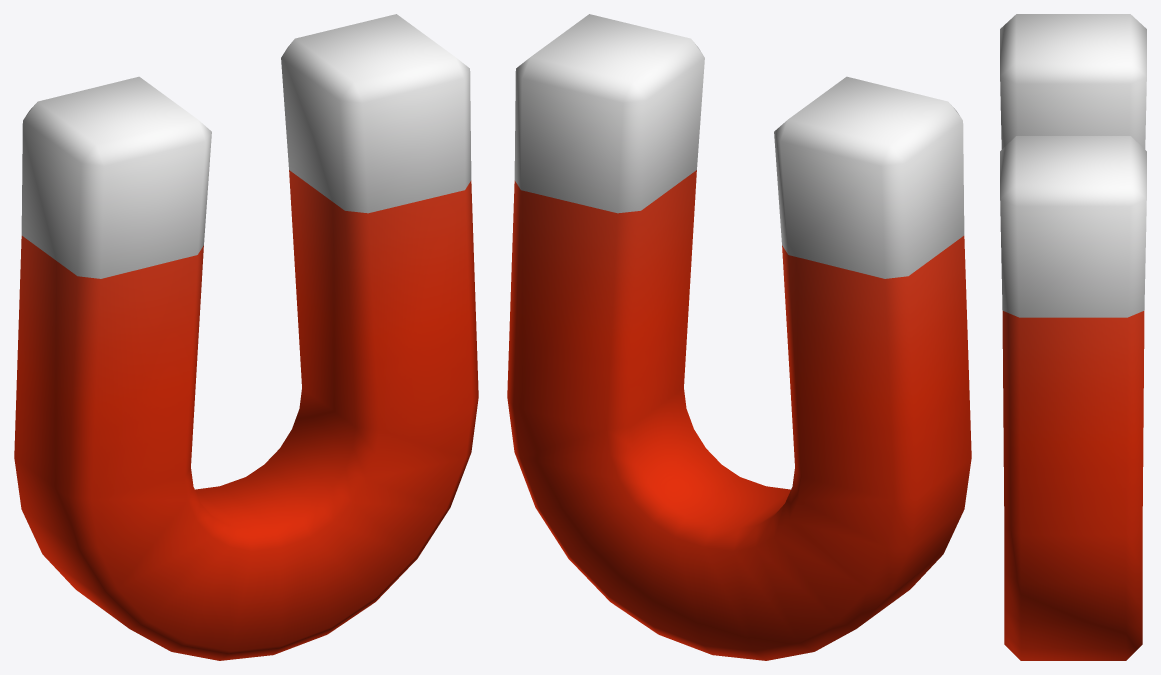
Rendered from Collectible_Magnet_01.glb.
The picture shows the model from 3 angles, left to right: view 1: azimuth 30°, elevation 25°; view 2: azimuth 150°, elevation 25°; view 3: azimuth 270°, elevation 25°; orthographic projection. The views are drawn at different scales.
Visible parts, largest first — view 1: Collectible_Magnet_01; view 2: Collectible_Magnet_01; view 3: Collectible_Magnet_01.
Part boxes in pixels (x1,y1,x2,y2): Collectible_Magnet_01: [14, 14, 478, 660]; Collectible_Magnet_01: [507, 14, 971, 660]; Collectible_Magnet_01: [1000, 14, 1146, 660].
Size of the model in its own units: 0.5561 by 0.7202 by 0.1773.
1 material, 1 textured.
